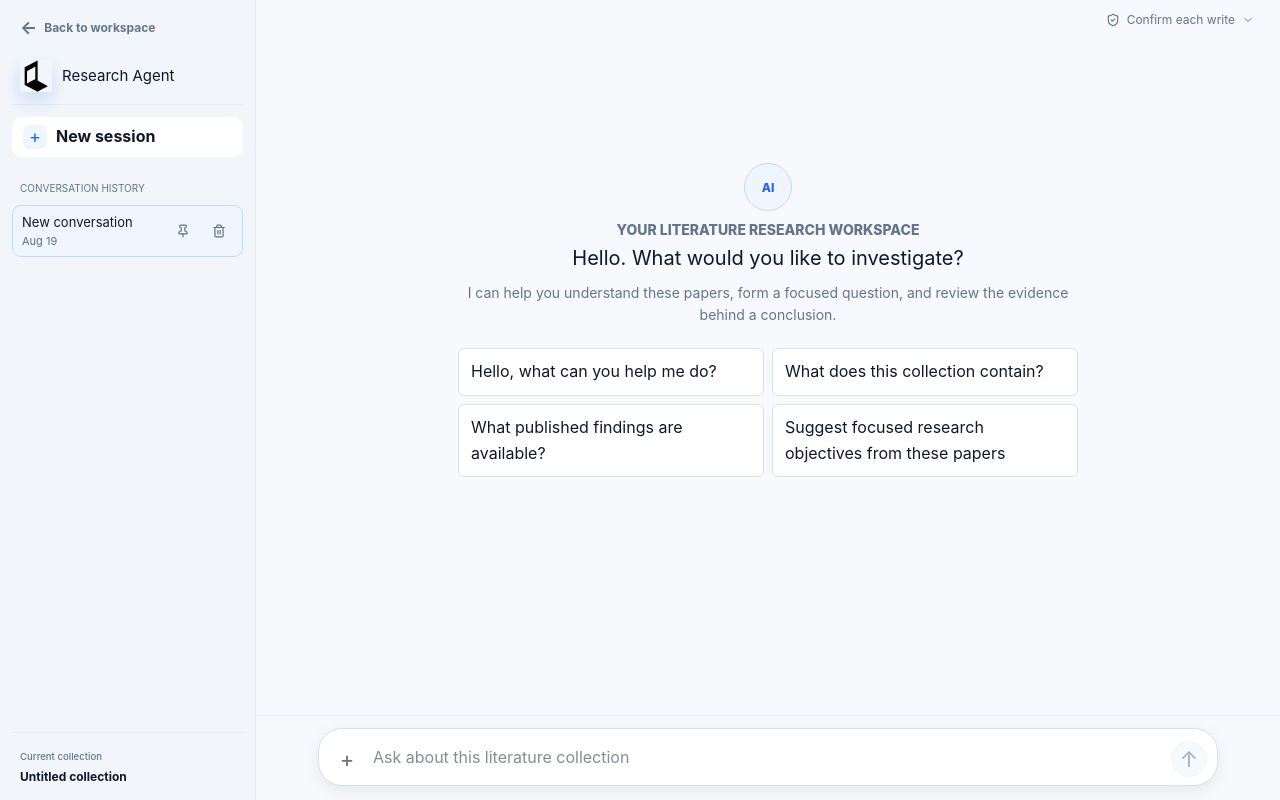
Test: collections/[id]/assistant Research Agent › explains why a conversation with saved versions cannot be deleted
This screenshot has width=1280, height=800.
Expected: the text box named "Message" is enabled, left=373, top=737, right=1163, bottom=777
Step 1. Click the button named "Delete conversation" → (219, 231), box left=205, top=217, right=233, bottom=245
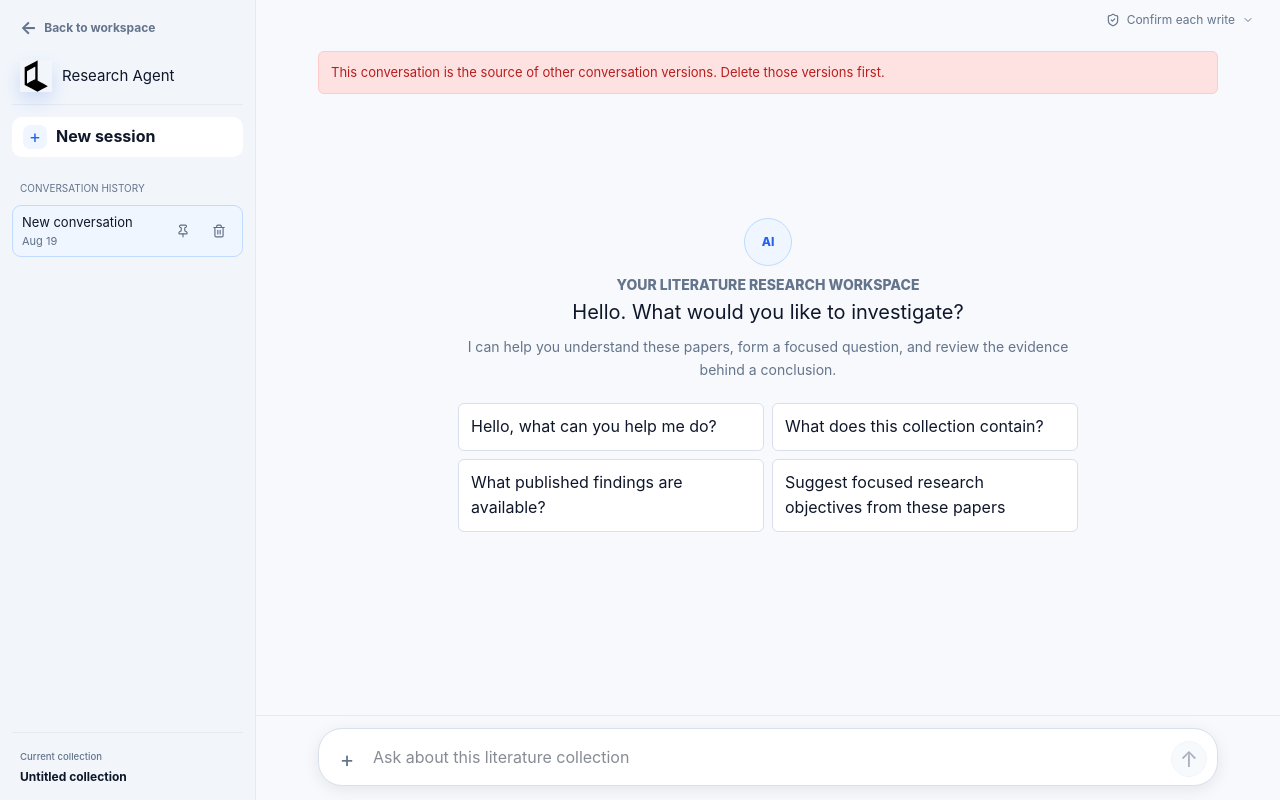
Now the message shows "Delete those versions first.", box left=331, top=64, right=885, bottom=80
